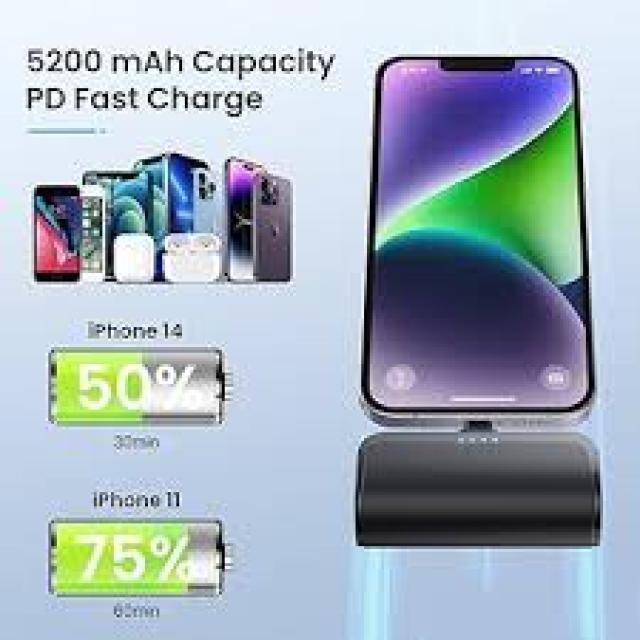portable-charger: (354, 416, 606, 554)
